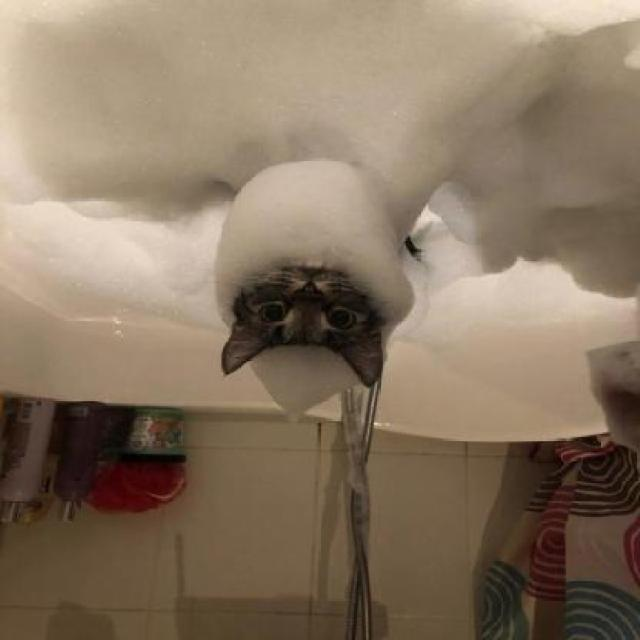cat: (217, 259, 401, 398)
